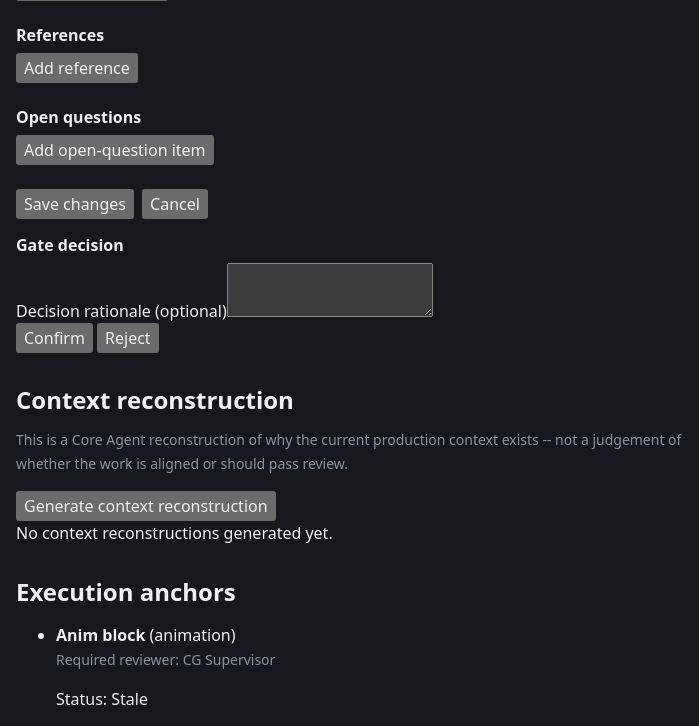
Test case: ShotAnchorPage › rejects a draft
(page scrolled)
Click the button "Reject".
click(128, 338)  # box [97,323,159,353]
(page scrolled)
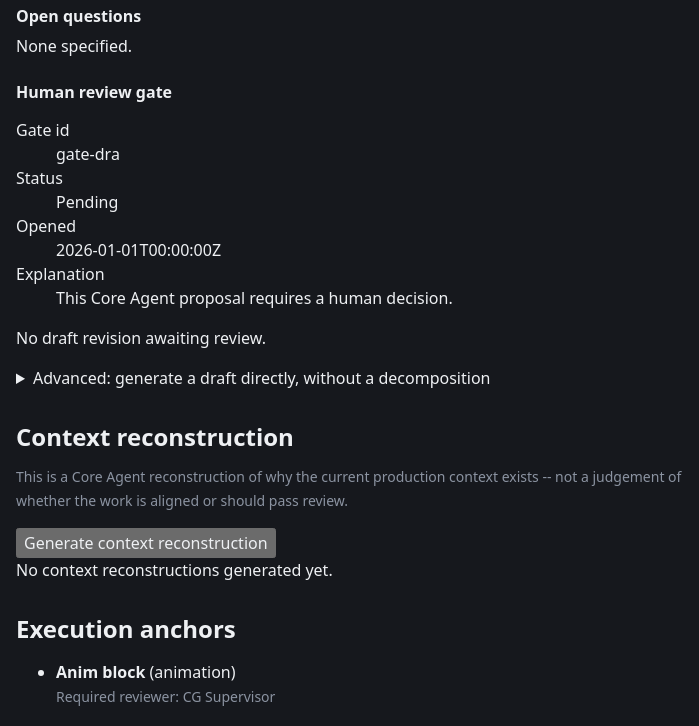
Result: the text "No draft revision awaiting review." is shown at [16,327,266,349]
